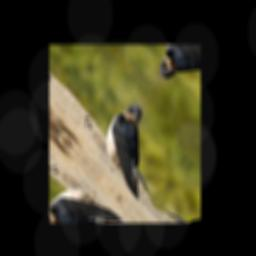Swallow: (91, 95, 184, 206)
